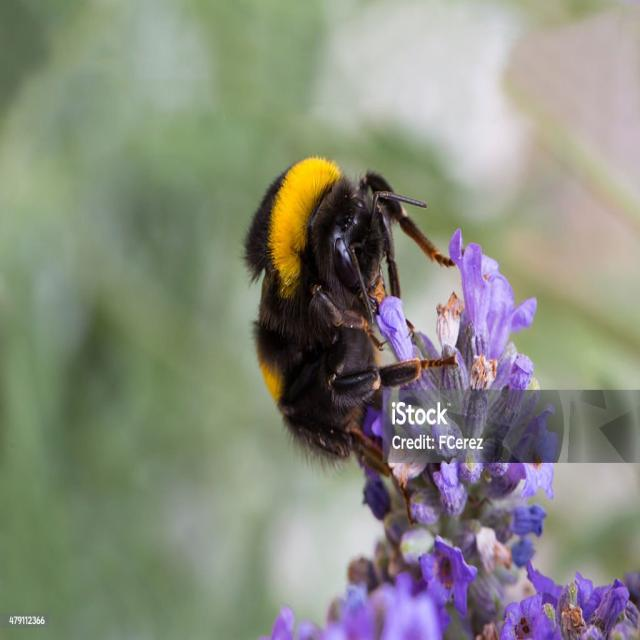bee: (238, 152, 467, 522)
